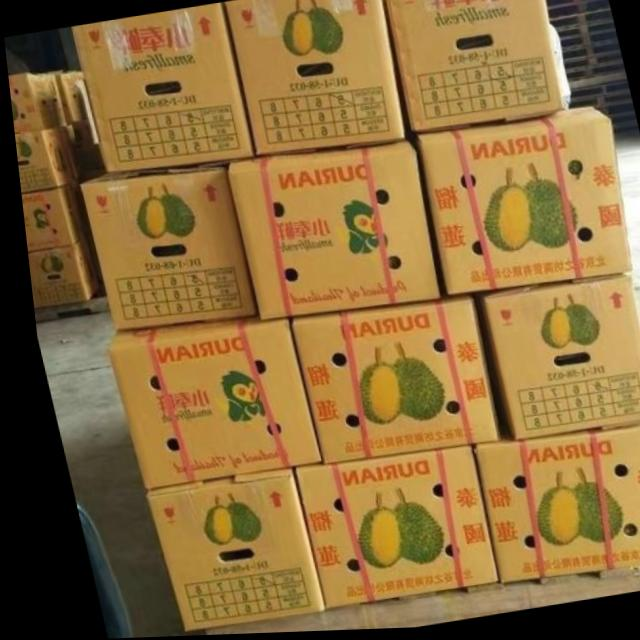box: (410, 109, 625, 298), (99, 315, 310, 490), (225, 145, 433, 318), (285, 296, 492, 466), (284, 447, 484, 612), (70, 3, 251, 172), (463, 423, 640, 588), (134, 468, 311, 632), (77, 169, 248, 332), (474, 276, 640, 442), (225, 0, 400, 157), (385, 0, 561, 134), (22, 237, 95, 306), (17, 180, 82, 252), (12, 123, 75, 193), (7, 73, 65, 134), (53, 72, 85, 124)
